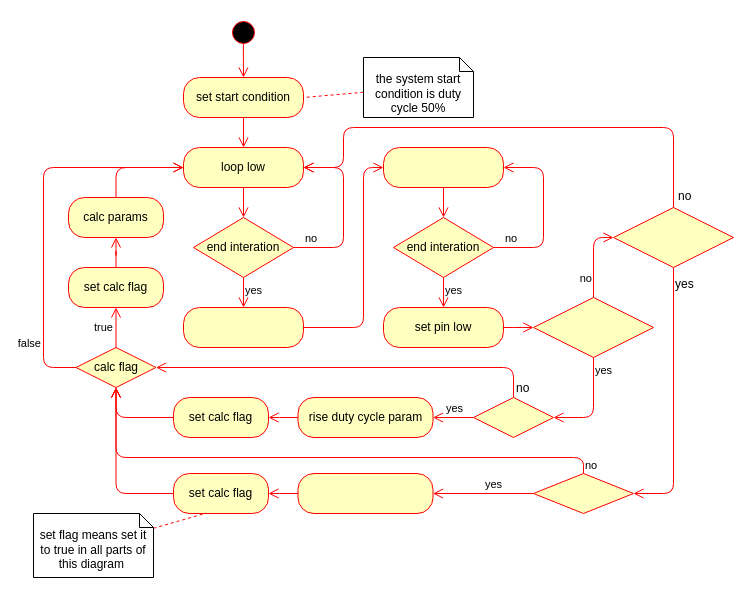
Some shapes in this 751 by 595 pixel diagram are drawn without their labels. Here are the shapes that lost their labels. From the top down, the centre of each, then its label:
(x=443, y=167): loop high
(x=673, y=237): down buttom pressed
(x=243, y=327): set pin high
(x=593, y=327): rise buttom pressed
(x=513, y=417): can rise?
(x=365, y=493): down duty cycle param
(x=583, y=493): can down?
